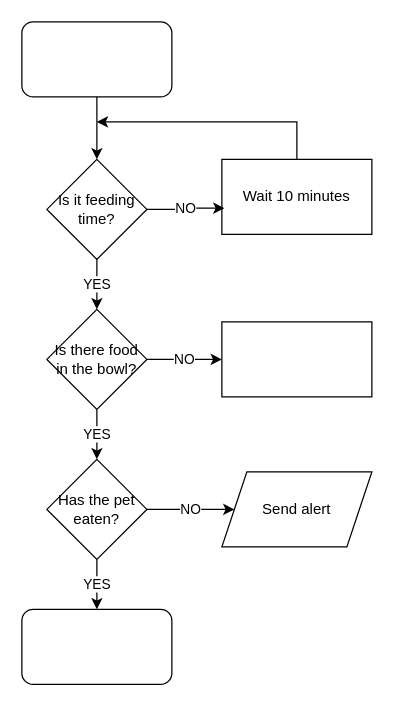
Some shapes in this 394 by 706 pixel diagram are drawn without their labels. Here are the shapes that lost their labels. From the top down, the box of each, then its label:
(21, 21, 172, 97): START
(221, 321, 372, 397): Dispense food
(21, 608, 172, 684): END
